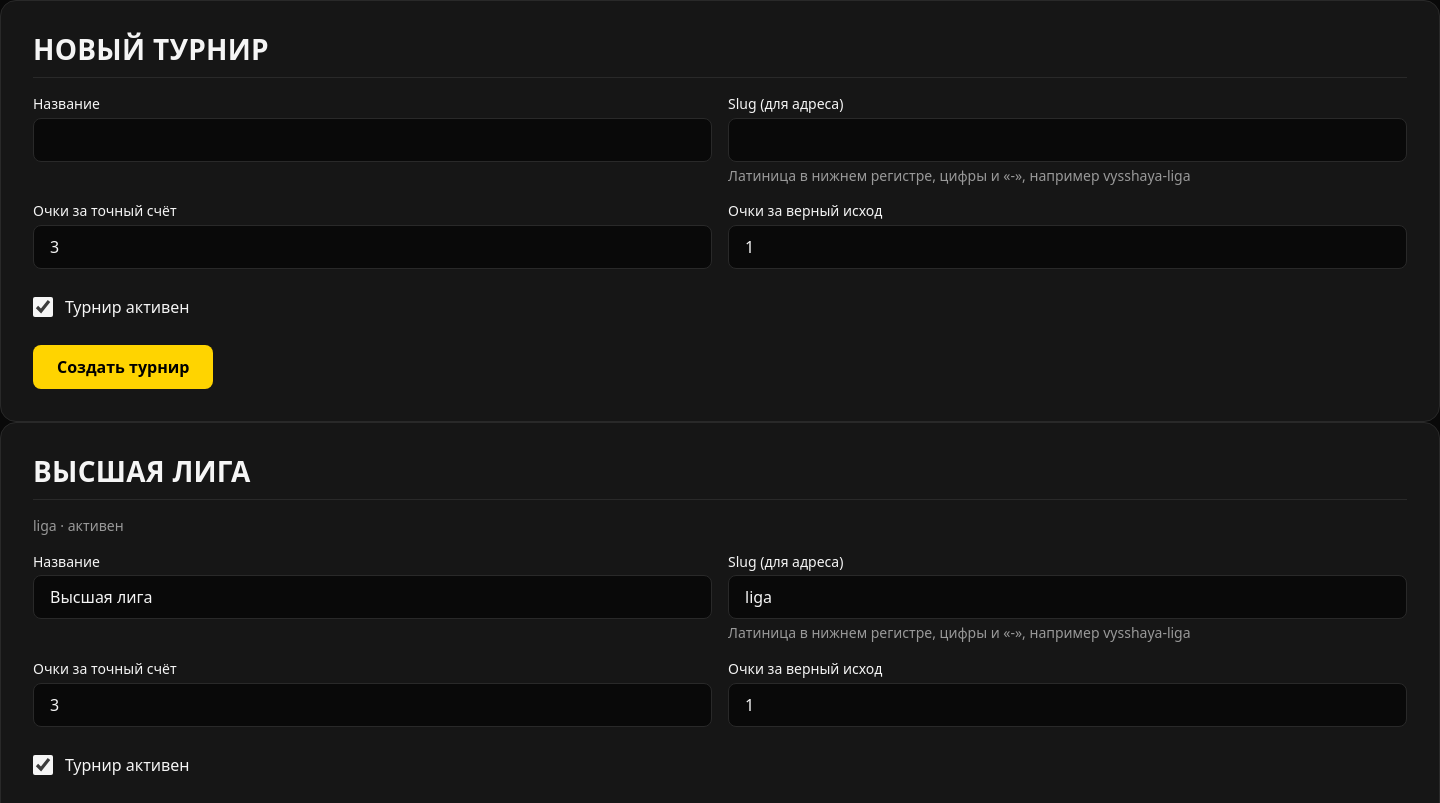
it: TournamentsManager › shows a created tournament at once, before the page data is refreshed
Expected: the heading "Кубок Беларуси" is not shown
Type "Кубок Беларуси" into the field labelled "Название" below "Новый турнир". click: x=372, y=140
box: [33,118,712,162]
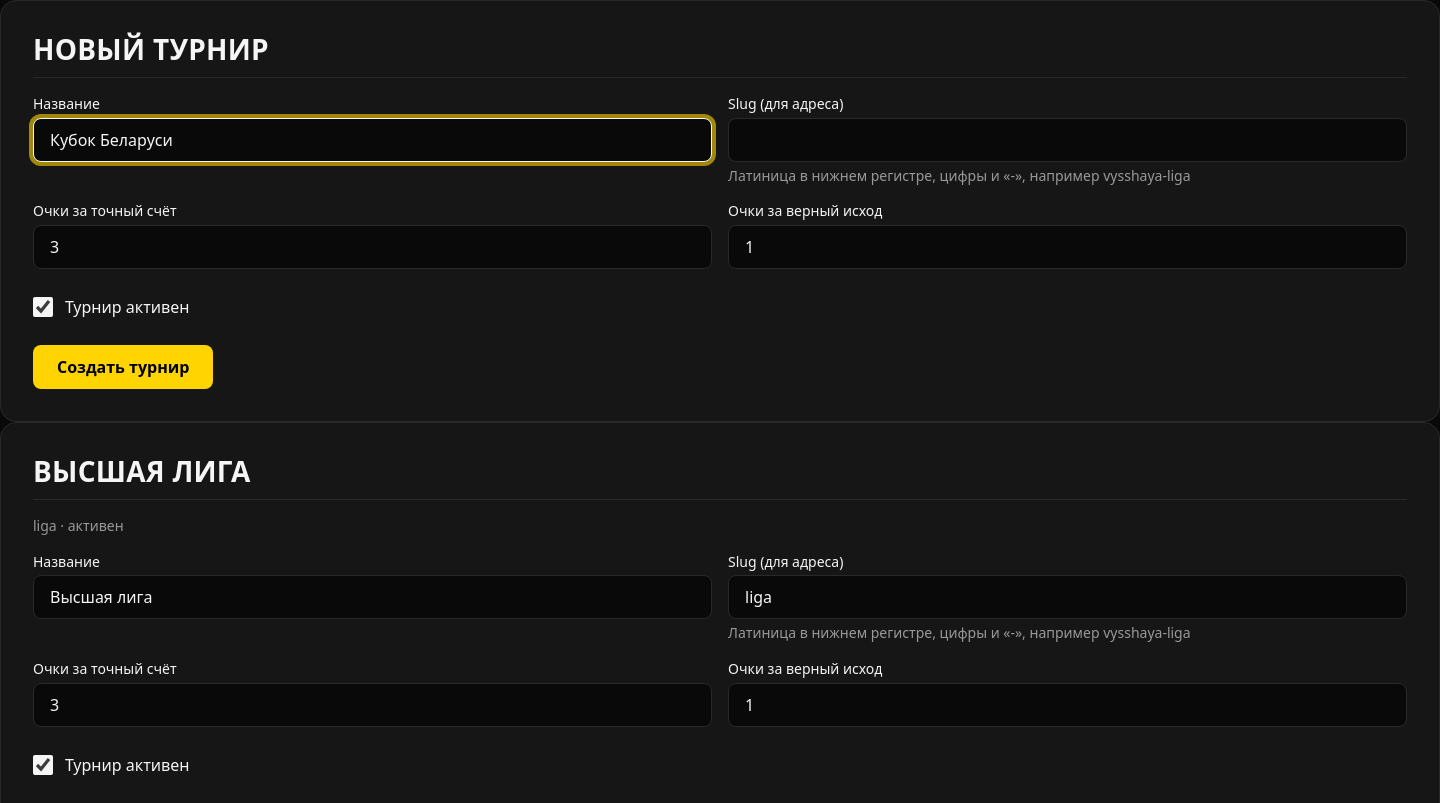
Type "kubok" into the 1st field labelled "Slug (для адреса)". click: x=1068, y=140
box: [728,118,1407,162]
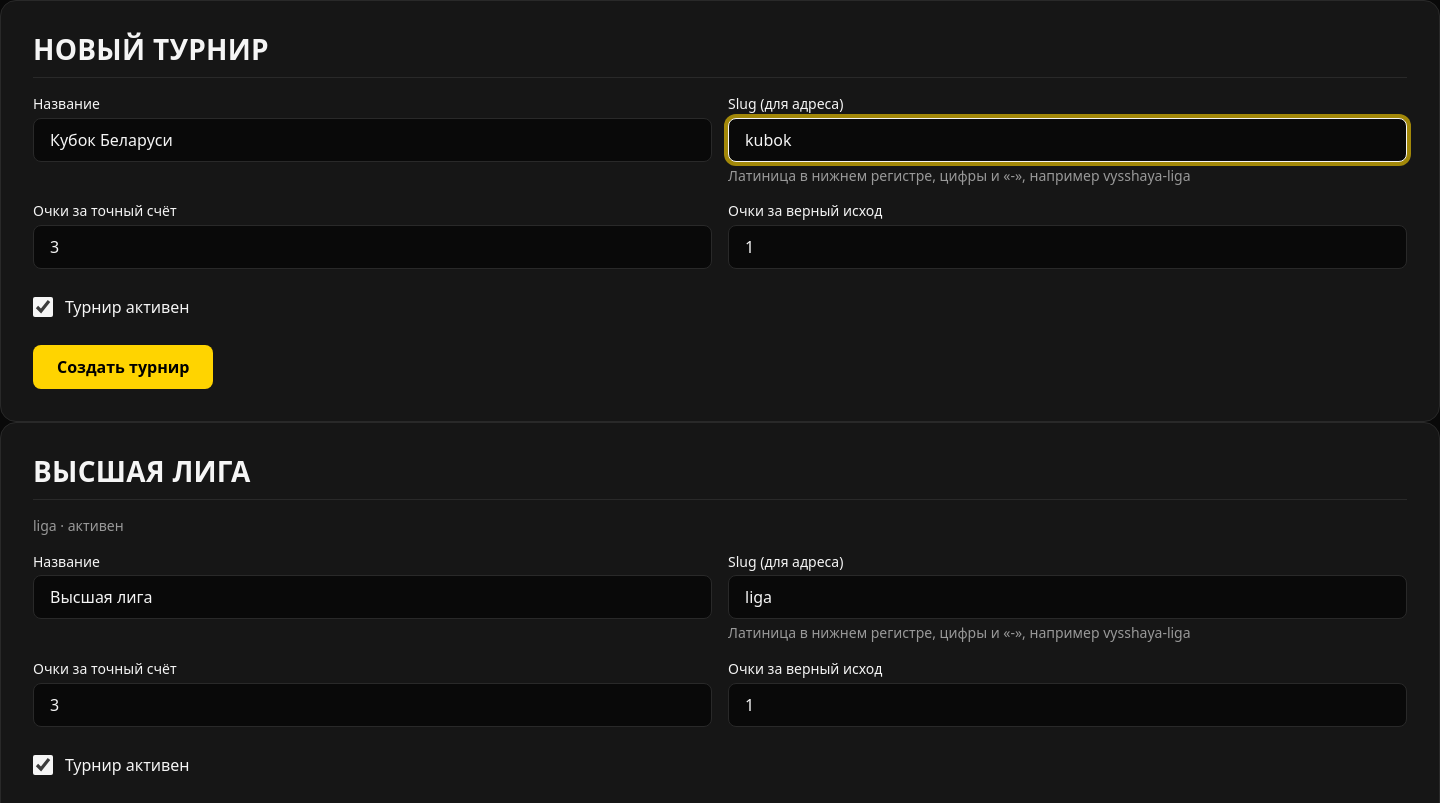
Click the button "Создать турнир". click: x=123, y=367
box: [33,345,213,389]
(page scrolled)
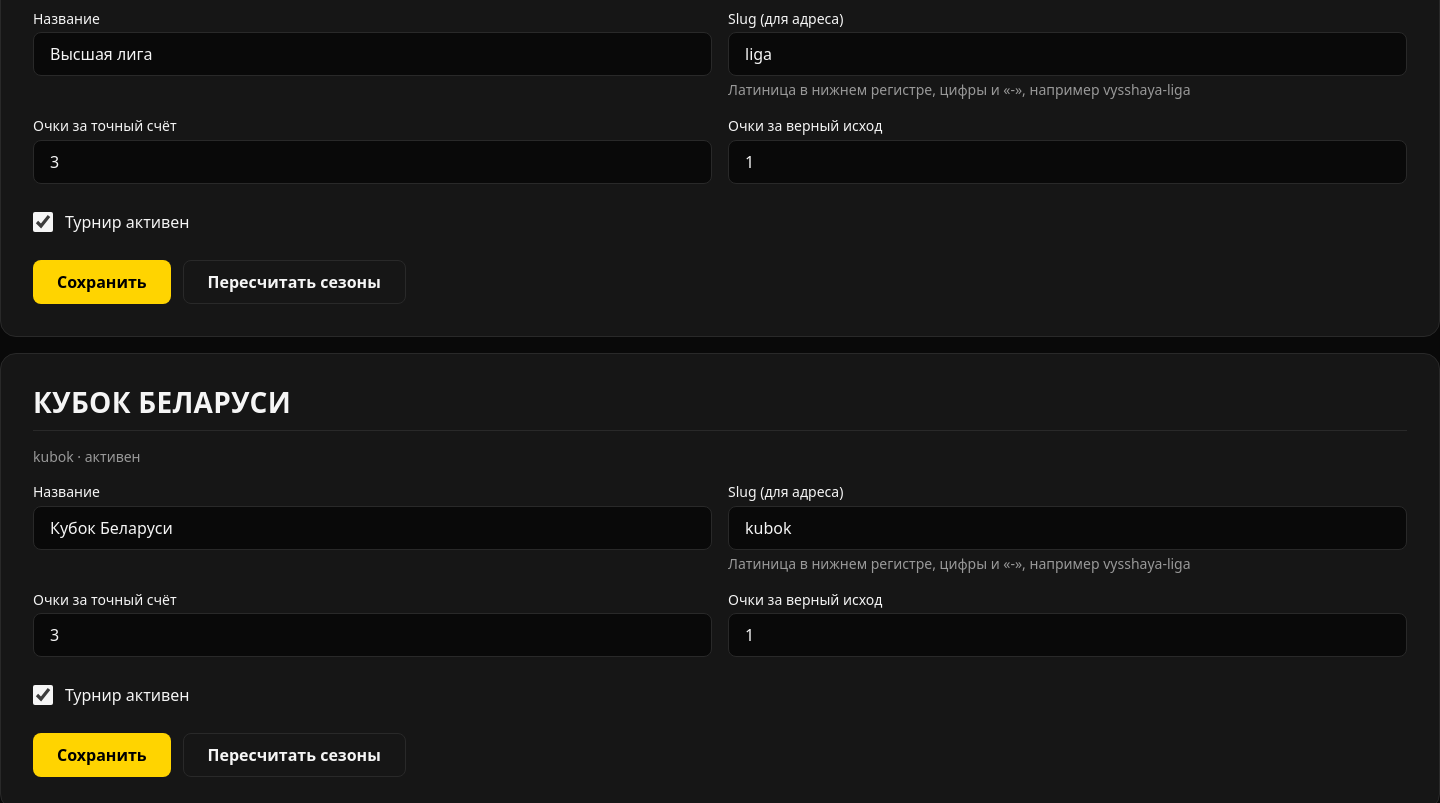
Result: the heading "Кубок Беларуси" is shown at [33,386,1407,431]
